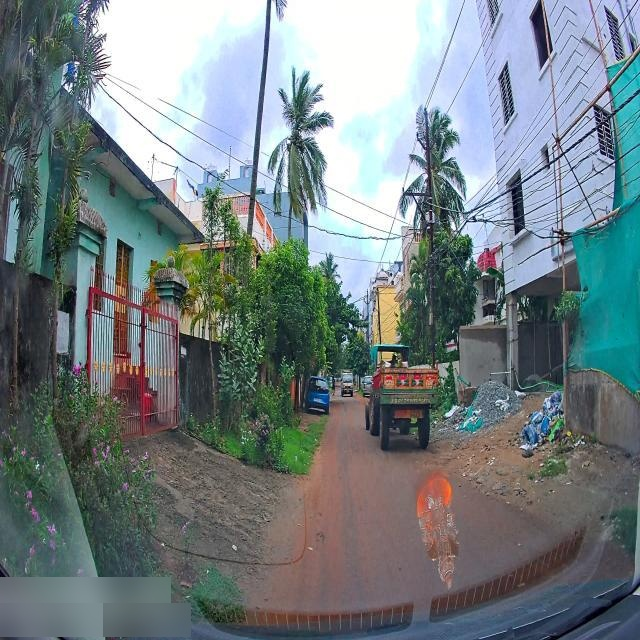pothole: (313, 528, 328, 550)
